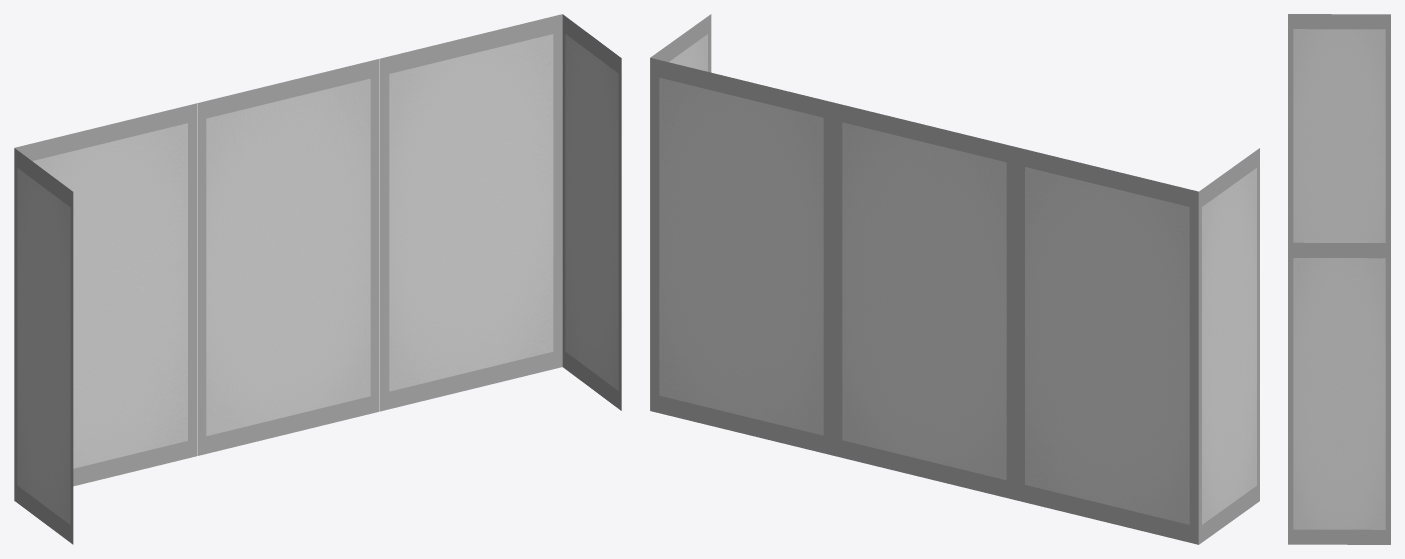
File: Mampara.obj
The picture shows the model from 3 angles, left to right: view 1: azimuth 30°, elevation 25°; view 2: azimuth 150°, elevation 25°; view 3: azimuth 270°, elevation 25°; orthographic projection. The views are drawn at different scales.
Visible parts, largest first — view 1: Plano, Plano.001, Plano.002, Plano.004, Plano.003; view 2: Plano.001, Plano.002, Plano, Plano.004, Plano.003; view 3: Plano.003, Plano.004.
Boxes of the visible parts, x1,y1,x2,y2 form: Plano: (380, 14, 562, 411); Plano.001: (197, 58, 379, 455); Plano.002: (15, 103, 196, 486); Plano.004: (14, 148, 73, 544); Plano.003: (562, 14, 621, 410); Plano.001: (833, 102, 1015, 500); Plano.002: (1016, 147, 1198, 544); Plano: (650, 58, 832, 455); Plano.004: (1198, 148, 1259, 544); Plano.003: (650, 14, 711, 410); Plano.003: (1288, 242, 1390, 544); Plano.004: (1288, 14, 1390, 242).
Bounding box in the file's own units: 3.03 × 1.86 × 0.574.
